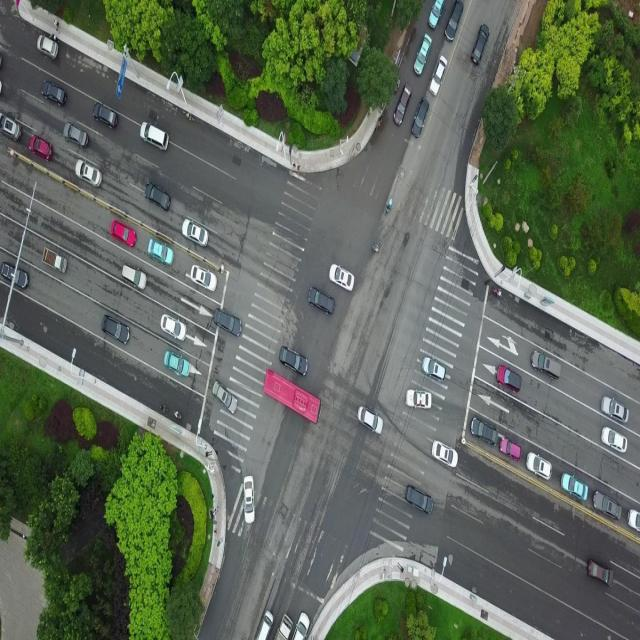p3rson: (160, 404, 169, 413), (174, 409, 182, 419)
